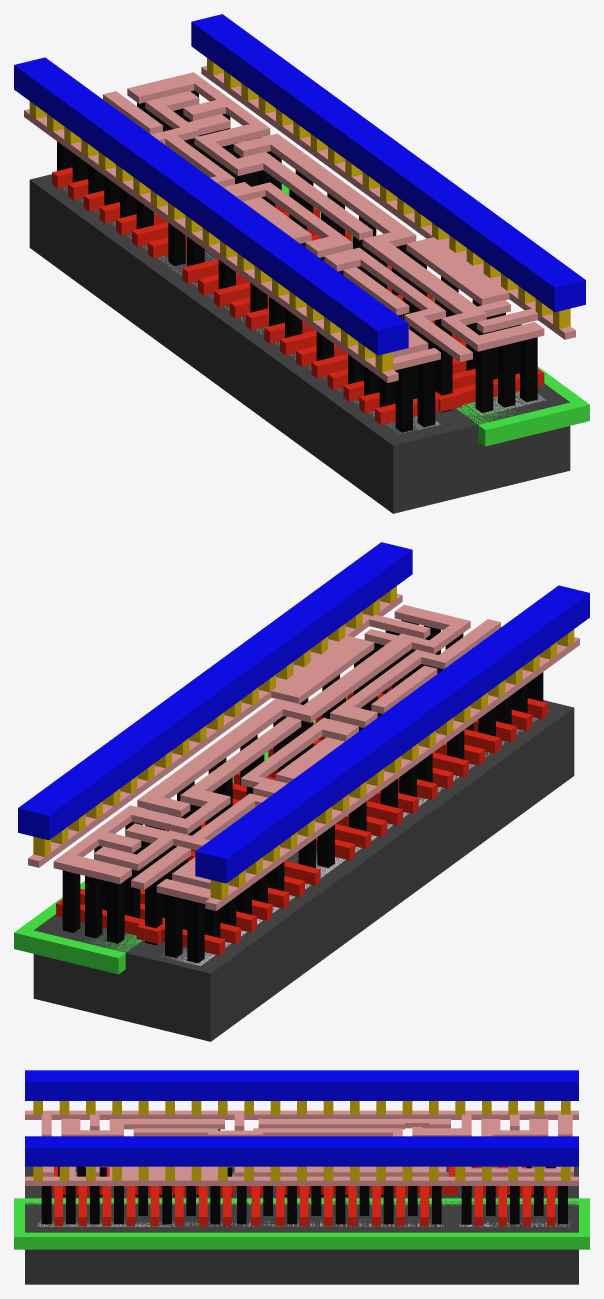
The model's file is sky130_fd_sc_hd__a221oi_4.obj.
3 renders of one model, top to bottom at view 1: azimuth 30°, elevation 25°; view 2: azimuth 150°, elevation 25°; view 3: azimuth 270°, elevation 25°, orthographic. The views are drawn at different scales.
Parts seen in each view (by area): view 1: subs, metal1, li, licon, poly, mcon, nwell; view 2: subs, metal1, li, licon, poly, mcon, nwell, diff; view 3: metal1, subs, li, nwell, poly, licon, mcon, tap.
Part boxes in pixels (x1,y1,x2,y2): subs: (29, 174, 570, 513); metal1: (14, 14, 585, 355); li: (24, 65, 575, 382); licon: (57, 90, 537, 432); poly: (52, 157, 544, 424); mcon: (29, 58, 570, 372); nwell: (240, 156, 589, 446); subs: (33, 700, 574, 1041); metal1: (18, 542, 589, 883); li: (28, 593, 579, 910); licon: (62, 620, 543, 963); poly: (56, 685, 547, 955); mcon: (33, 586, 574, 900); nwell: (14, 696, 347, 974); diff: (161, 710, 548, 965); metal1: (25, 1070, 578, 1166); subs: (25, 1166, 578, 1284); li: (25, 1110, 578, 1185); nwell: (14, 1198, 589, 1249); poly: (52, 1166, 557, 1226); licon: (41, 1129, 567, 1224); mcon: (33, 1101, 570, 1180); tap: (38, 1219, 570, 1226).
Size of the model in its own units: 3.2 by 2.74 by 10.04.
